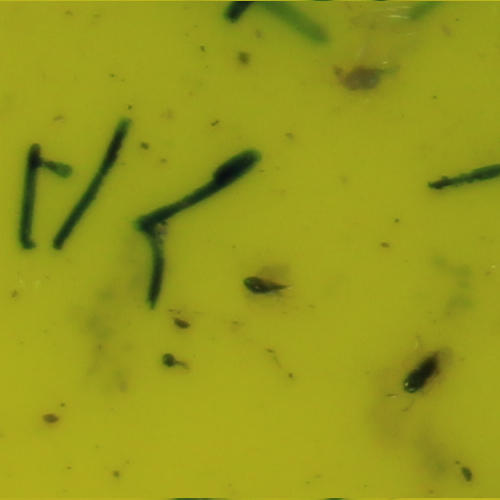wasp: (402, 351, 442, 397), (240, 270, 286, 294)
